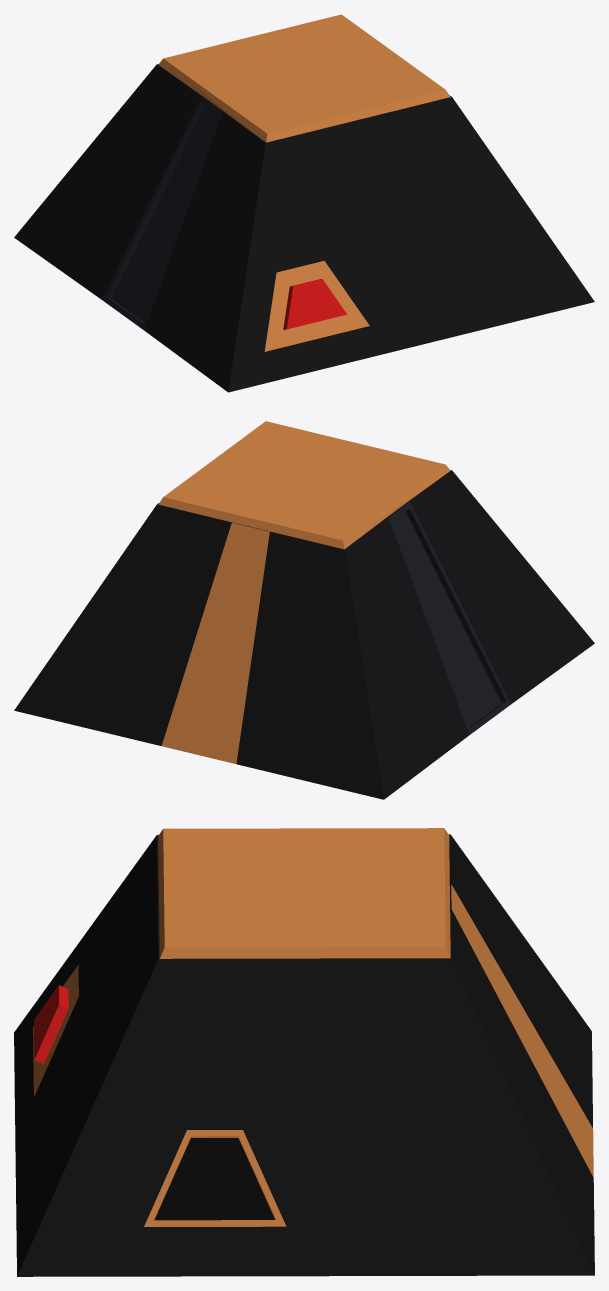
3 renders of one model, top to bottom at view 1: azimuth 30°, elevation 25°; view 2: azimuth 150°, elevation 25°; view 3: azimuth 270°, elevation 25°, orthographic. The views are drawn at different scales.
Parts seen in each view (by area): view 1: pyramid_2; view 2: pyramid_2; view 3: pyramid_2.
Boxes of the visible parts, box(x1,y1,x2,y2) form: pyramid_2: box(14, 14, 594, 392); pyramid_2: box(14, 421, 594, 799); pyramid_2: box(14, 828, 594, 1276).
Size of the model in its own units: 522 by 264 by 522.
